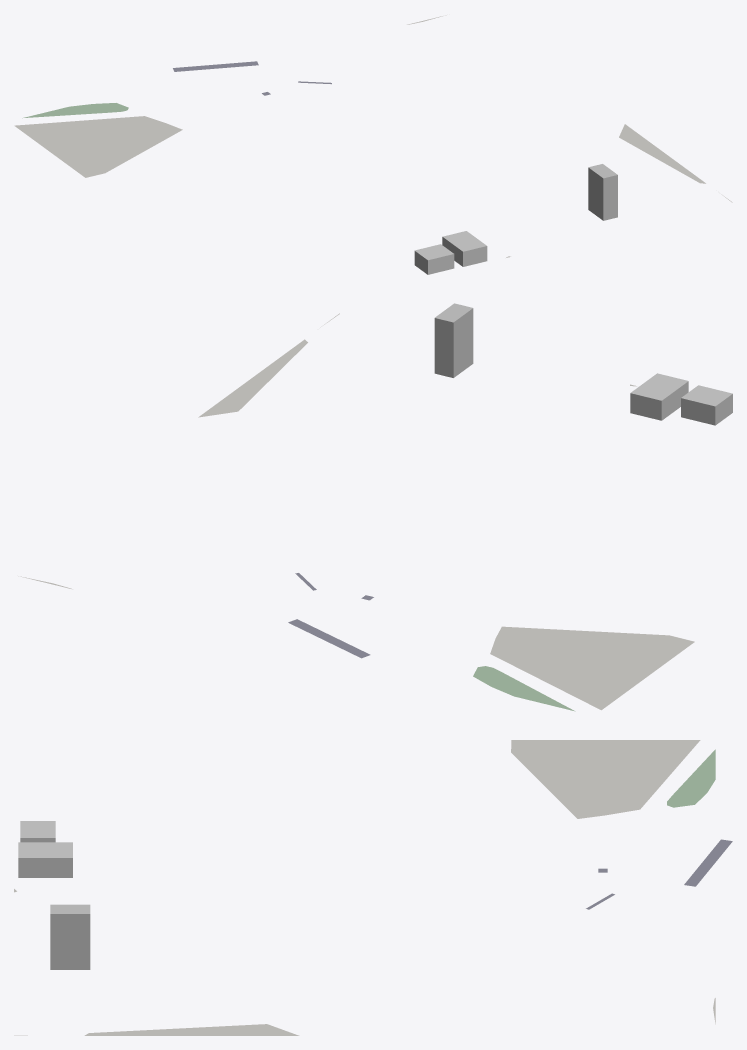
The model's file is 139_112_mid.glb.
3 views of the same model, one above another, from view 1: azimuth 30°, elevation 25°; view 2: azimuth 150°, elevation 25°; view 3: azimuth 270°, elevation 25° (orthographic). The views are drawn at different scales.
Size of the model in its own units: 500 by 45.65 by 512.
